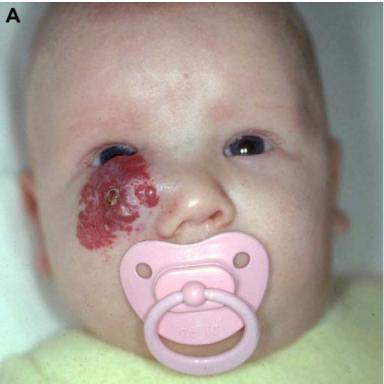Hemangiome: (77, 155, 157, 249)
